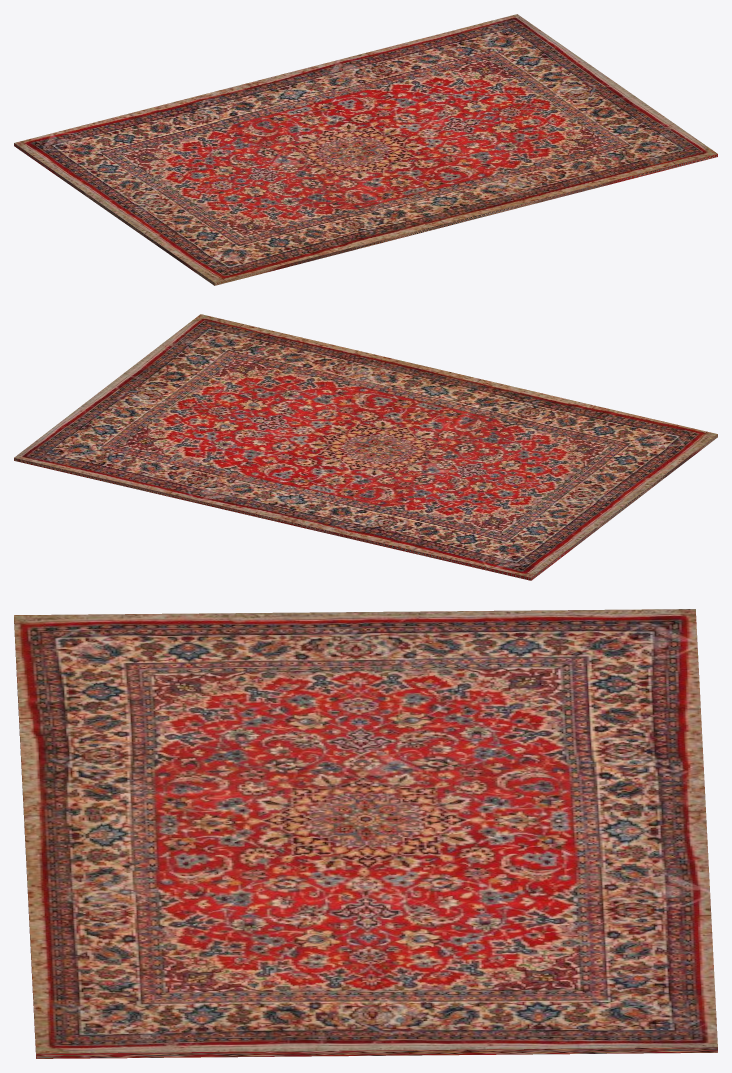
The model's file is carpet.glb.
3 views of the same model, one above another, from view 1: azimuth 30°, elevation 25°; view 2: azimuth 150°, elevation 25°; view 3: azimuth 270°, elevation 25° (orthographic). The views are drawn at different scales.
Parts seen in each view (by area): view 1: Carpet; view 2: Carpet; view 3: Carpet.
Boxes of the visible parts, x1,y1,x2,y2 form: Carpet: (14, 14, 717, 285); Carpet: (14, 314, 717, 580); Carpet: (14, 609, 717, 1058).
Size of what is drawn, in the model's own units: 5.7 by 0.0324 by 3.81.
1 material, 1 textured.
